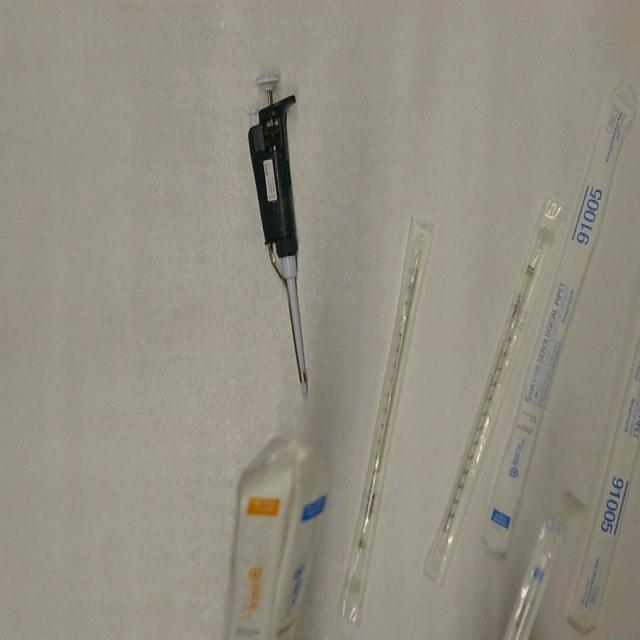Serelogical Pipet 10 mL: (224, 426, 295, 640)
Serelogical Pipet 2 mL: (420, 190, 570, 590), (336, 210, 437, 632)
Serelogical Pipet 5 mL: (477, 83, 638, 557), (566, 326, 640, 638), (268, 432, 333, 640), (497, 508, 566, 640)
Single Channel Pipettor: (240, 53, 321, 410)
